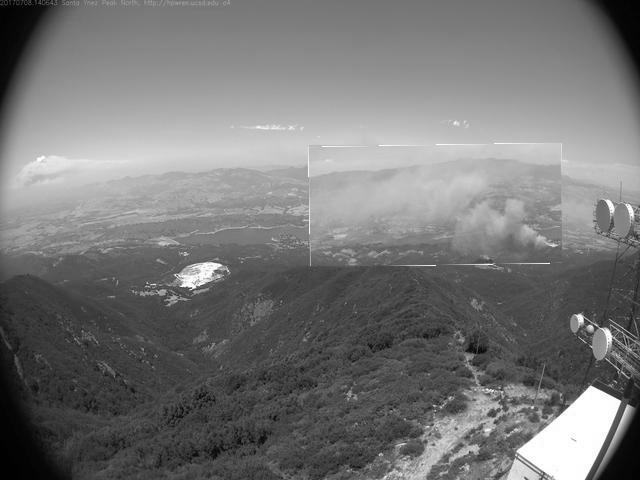smoke: (310, 145, 564, 267)
